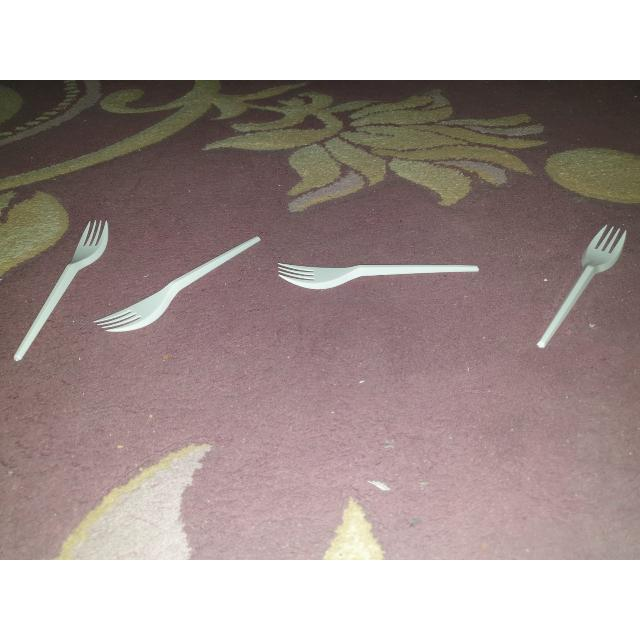Plastico descartable: (94, 232, 263, 336), (10, 221, 110, 362), (538, 225, 626, 348), (278, 264, 479, 289)
